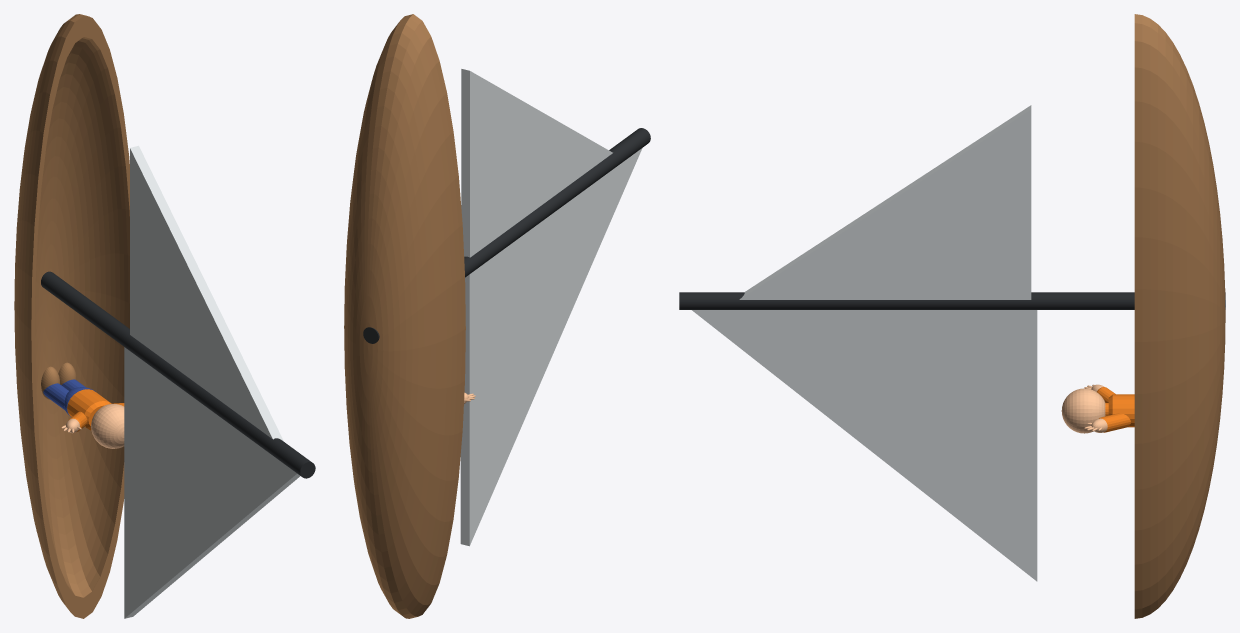
Rendered from boat.obj.
3 renders of one model, left to right at view 1: azimuth 30°, elevation 25°; view 2: azimuth 150°, elevation 25°; view 3: azimuth 270°, elevation 25°, orthographic.
Parts seen in each view (by area): view 1: obj_3, obj_1, obj_2, obj_0, obj_4; view 2: obj_3, obj_1, obj_2, obj_0; view 3: obj_1, obj_3, obj_2, obj_0, obj_4.
Part boxes in pixels (bbox=[...]): obj_3: bbox=[14, 14, 129, 618]; obj_1: bbox=[124, 347, 300, 618]; obj_2: bbox=[130, 145, 283, 441]; obj_0: bbox=[41, 271, 315, 478]; obj_4: bbox=[41, 362, 124, 448]; obj_3: bbox=[344, 14, 465, 618]; obj_1: bbox=[460, 148, 642, 546]; obj_2: bbox=[461, 69, 612, 257]; obj_0: bbox=[363, 128, 650, 343]; obj_1: bbox=[692, 310, 1037, 581]; obj_3: bbox=[1134, 14, 1225, 618]; obj_2: bbox=[739, 105, 1031, 299]; obj_0: bbox=[679, 292, 1225, 309]; obj_4: bbox=[1061, 384, 1134, 433].
Size of the model in its own units: 20.15 by 110 by 90.
